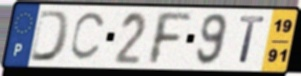2: (111, 10, 149, 66)
9: (195, 12, 230, 67)
C: (68, 10, 109, 63)
D: (27, 9, 73, 64)
F: (148, 9, 194, 67)
T: (238, 14, 268, 66)
